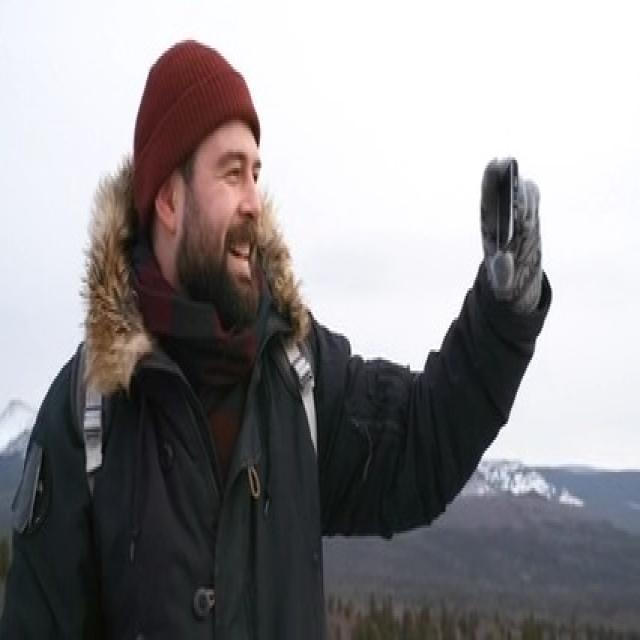Jacket_Wearer: (10, 257, 556, 640)
Person: (7, 41, 547, 640)
